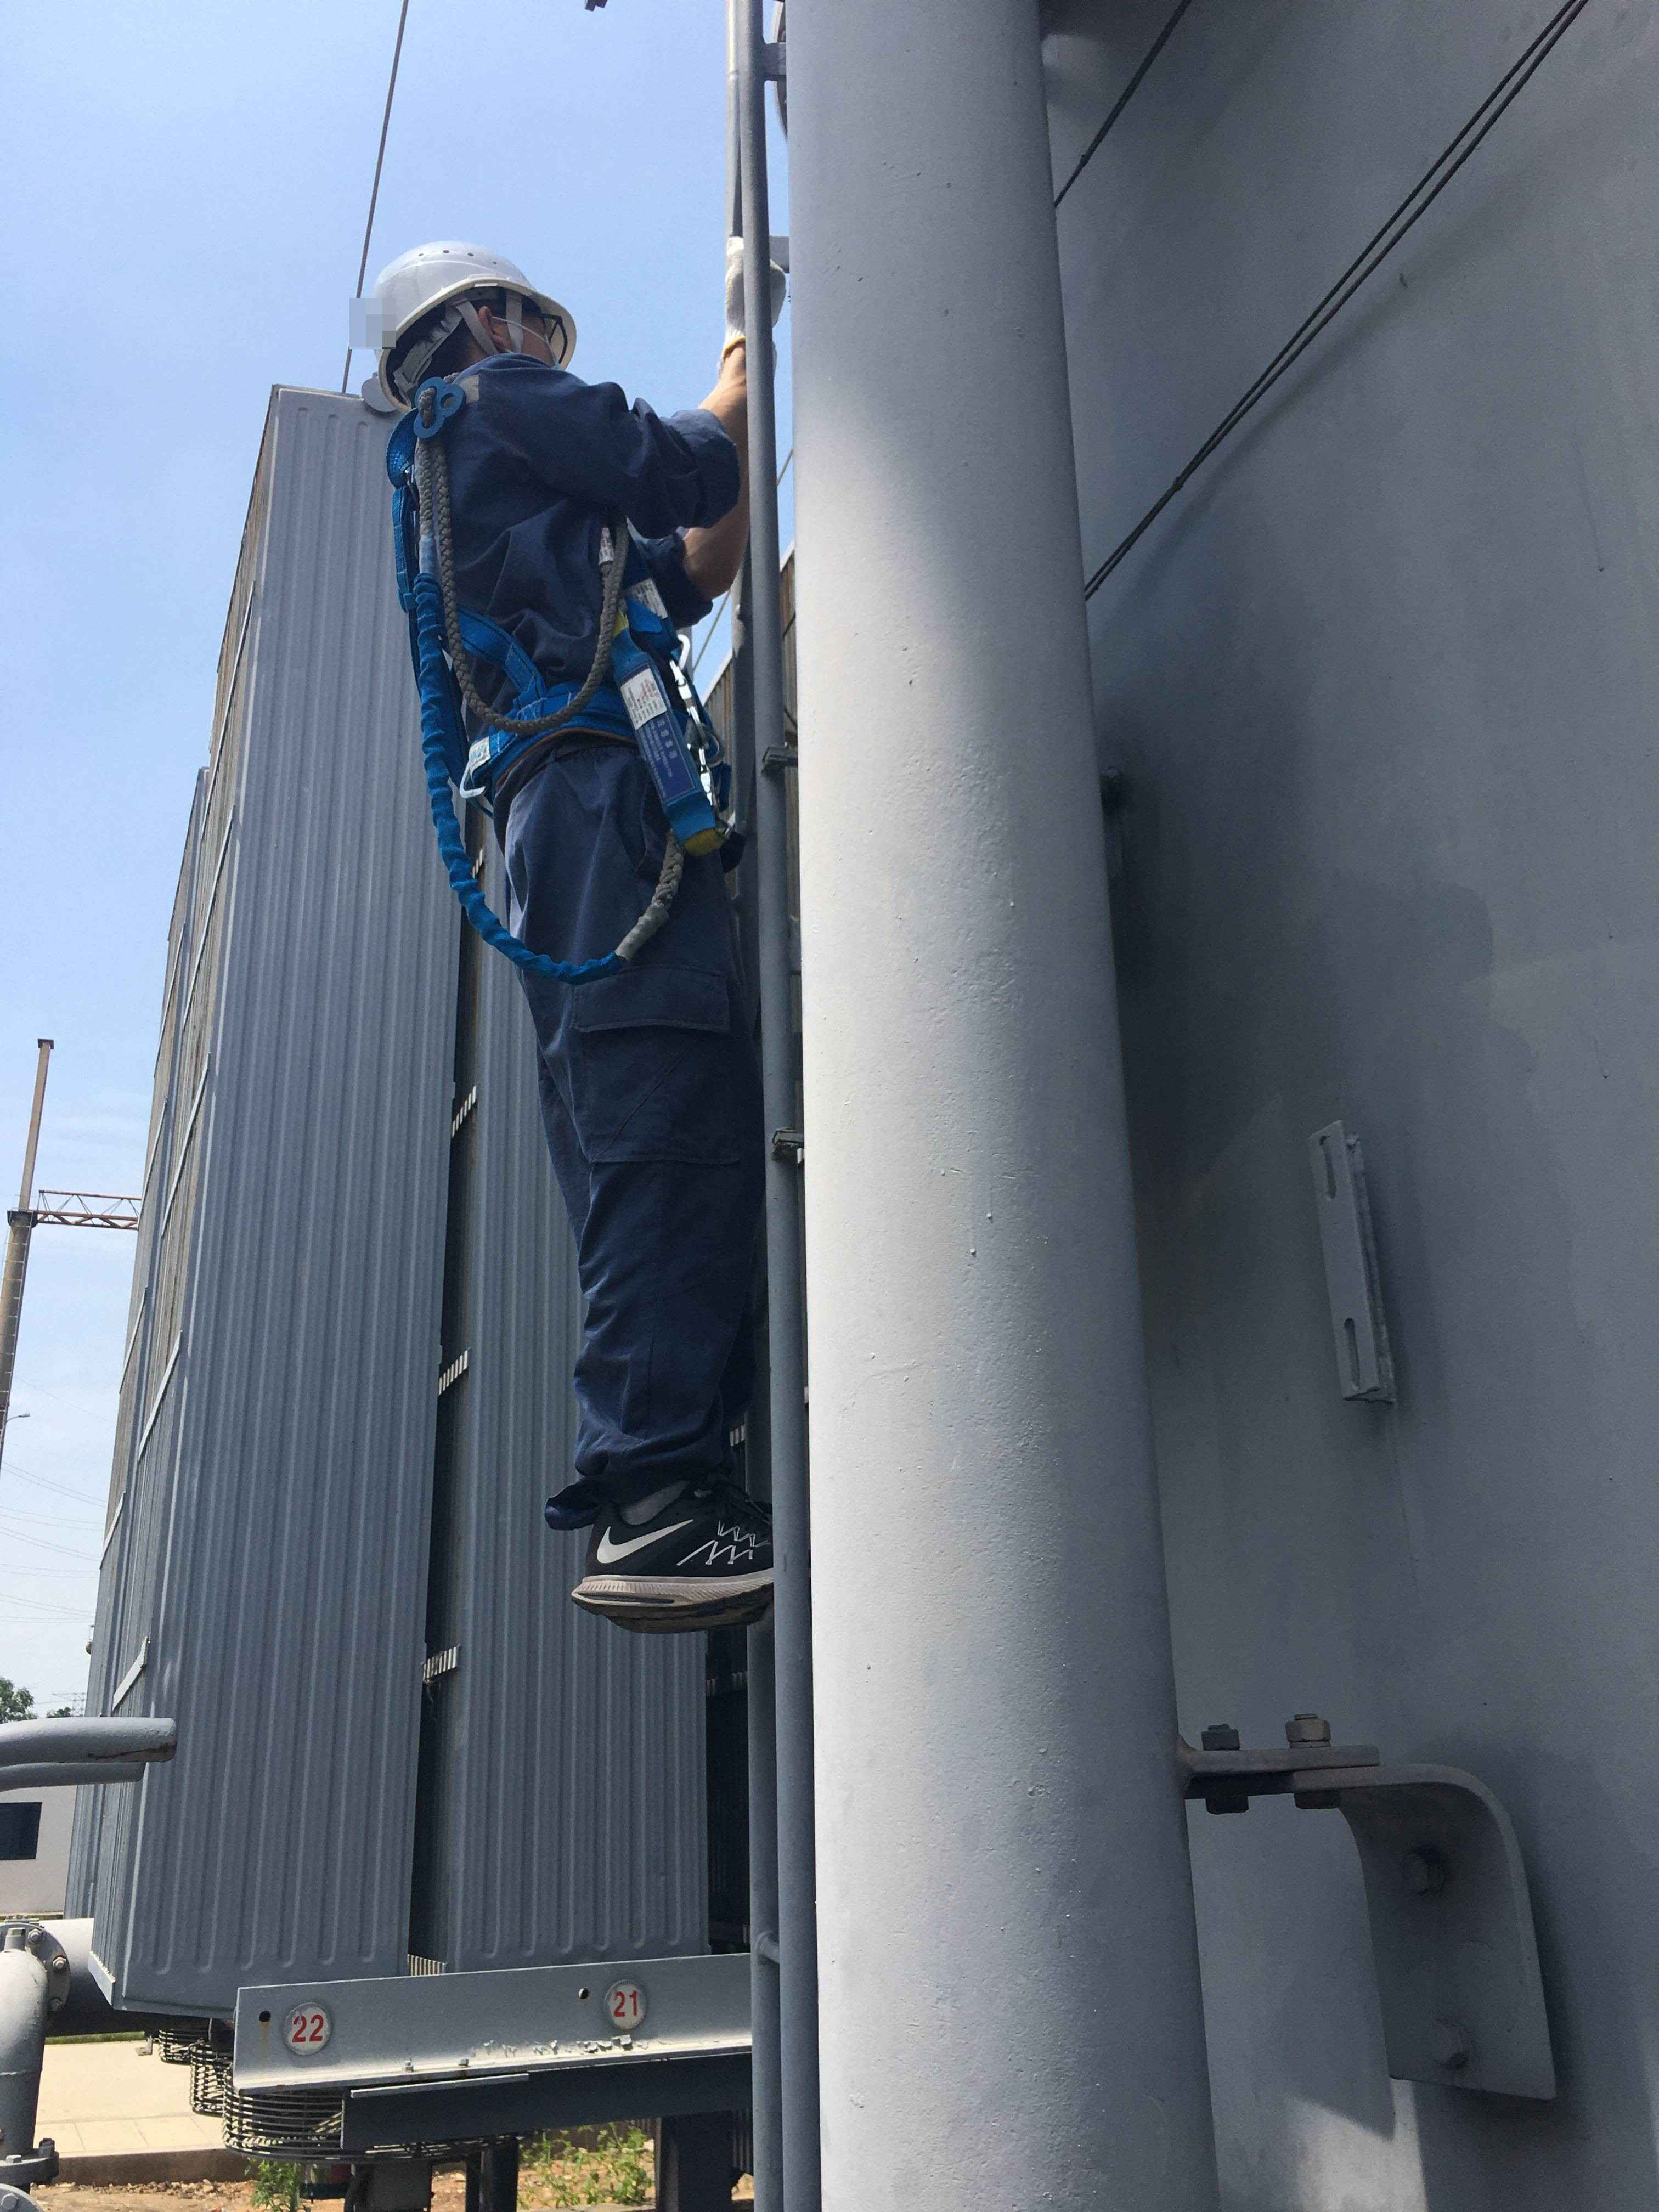downsuit: (458, 780, 798, 1526)
upsuit: (389, 354, 741, 763)
wrongtop: (660, 319, 749, 524)
